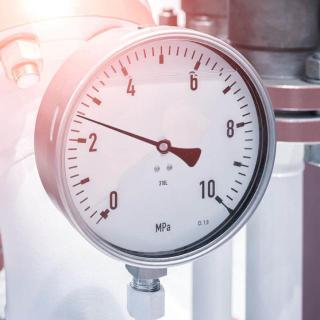gauge: (40, 22, 288, 282), (194, 178, 230, 216), (91, 196, 120, 227), (156, 137, 172, 155), (74, 111, 86, 121)
